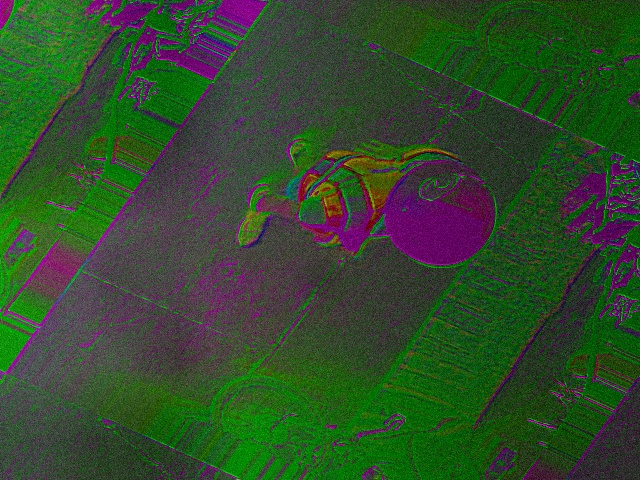two: (414, 164, 462, 207)
